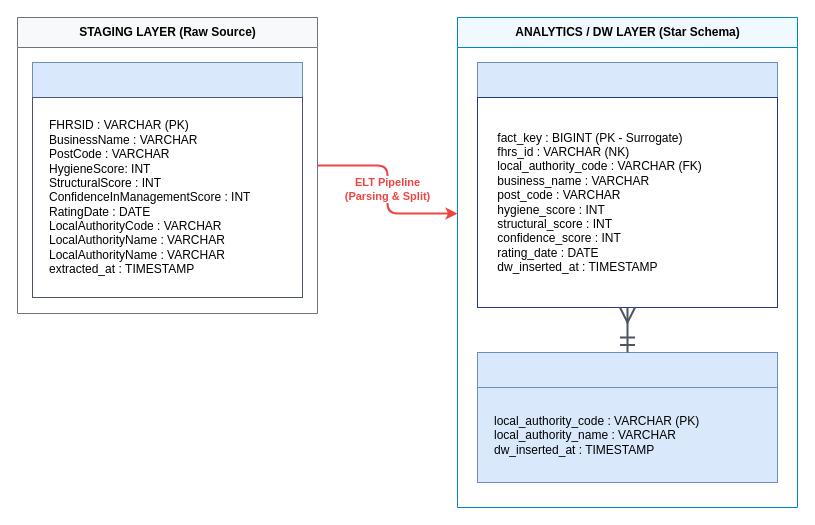
This 815x525 diagram has some shape labels left out. The shapes that lost their labels are listed below. From the top down, each one's centre as x and y in pixels, then its label:
the point at 167,80: stg_fhrs_ratings
the point at 627,80: fact_hygiene_ratings
the point at 627,370: dim_local_authorities
